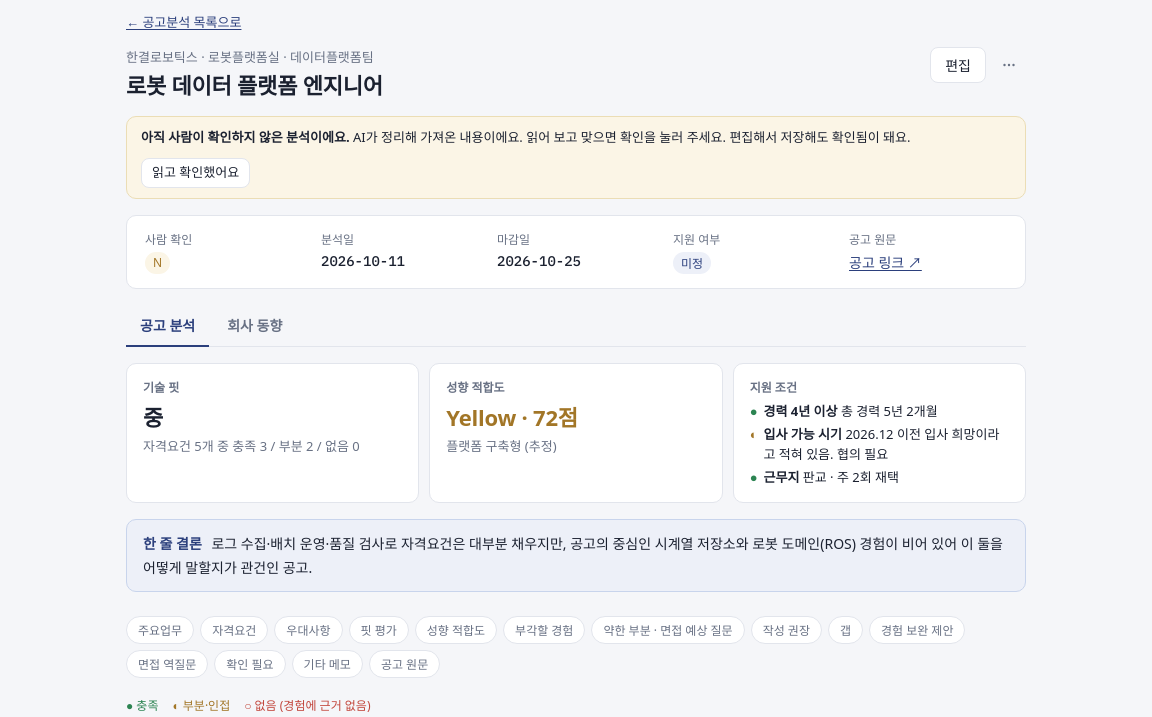
Test: JobViewScreen › marks an imported analysis as checked with [읽고 확인했어요]
The width and height of the screenshot is (1152, 717).
Expected: the element that starts with "아직 사람이 확인하지 않은 분석이에요." is shown, [141,128,350,146]
Step 1. Click the button "읽고 확인했어요" → (196, 173), box [141,158,250,188]
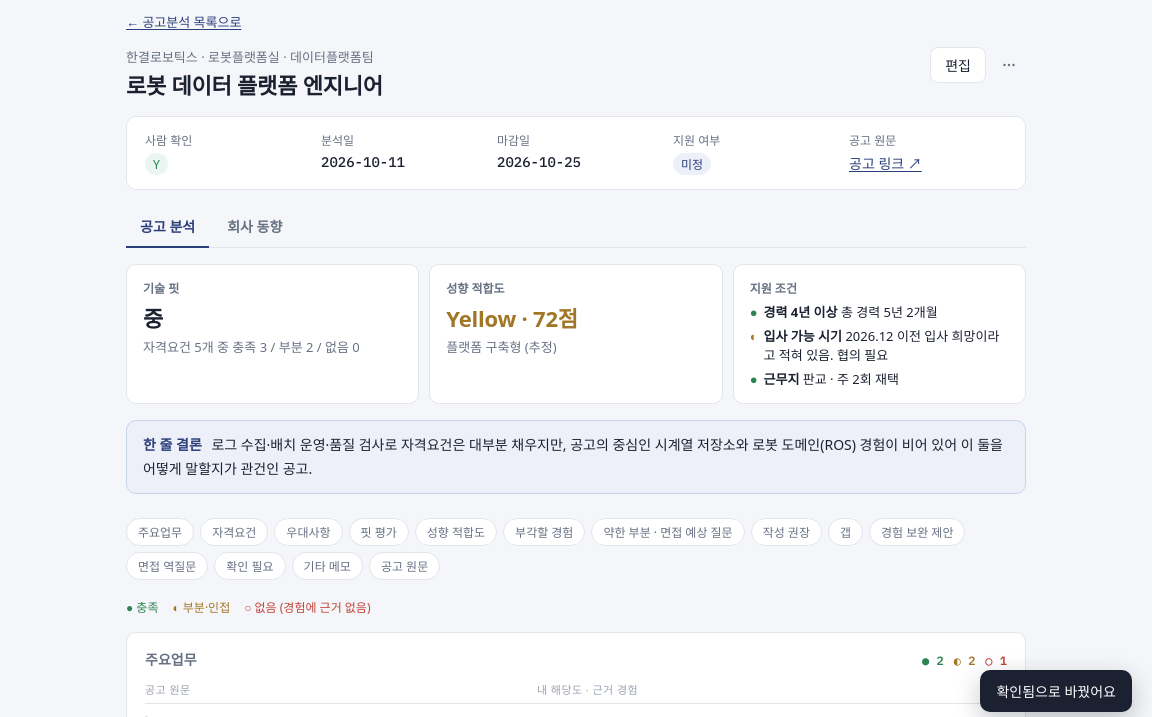
Expected: the text "확인됨으로 바꿨어요" is shown, [980,670,1132,712]
